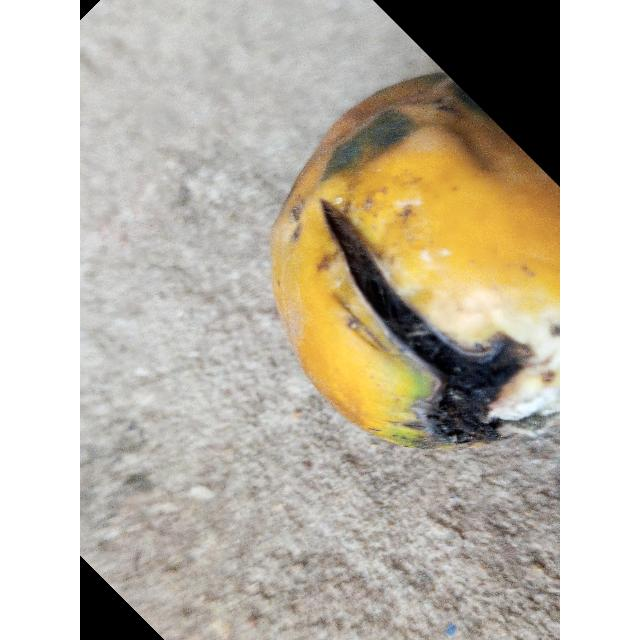damaged: (269, 73, 560, 450)
